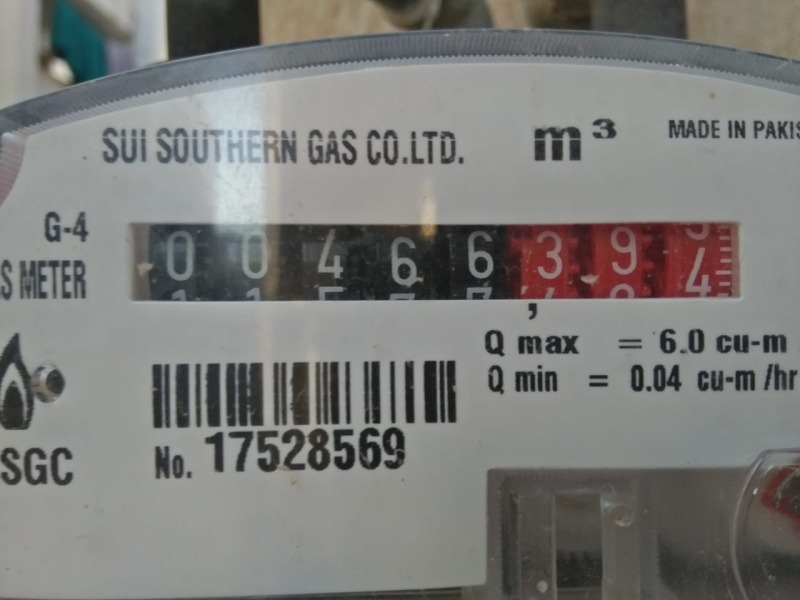ssgc: (121, 215, 745, 309)
